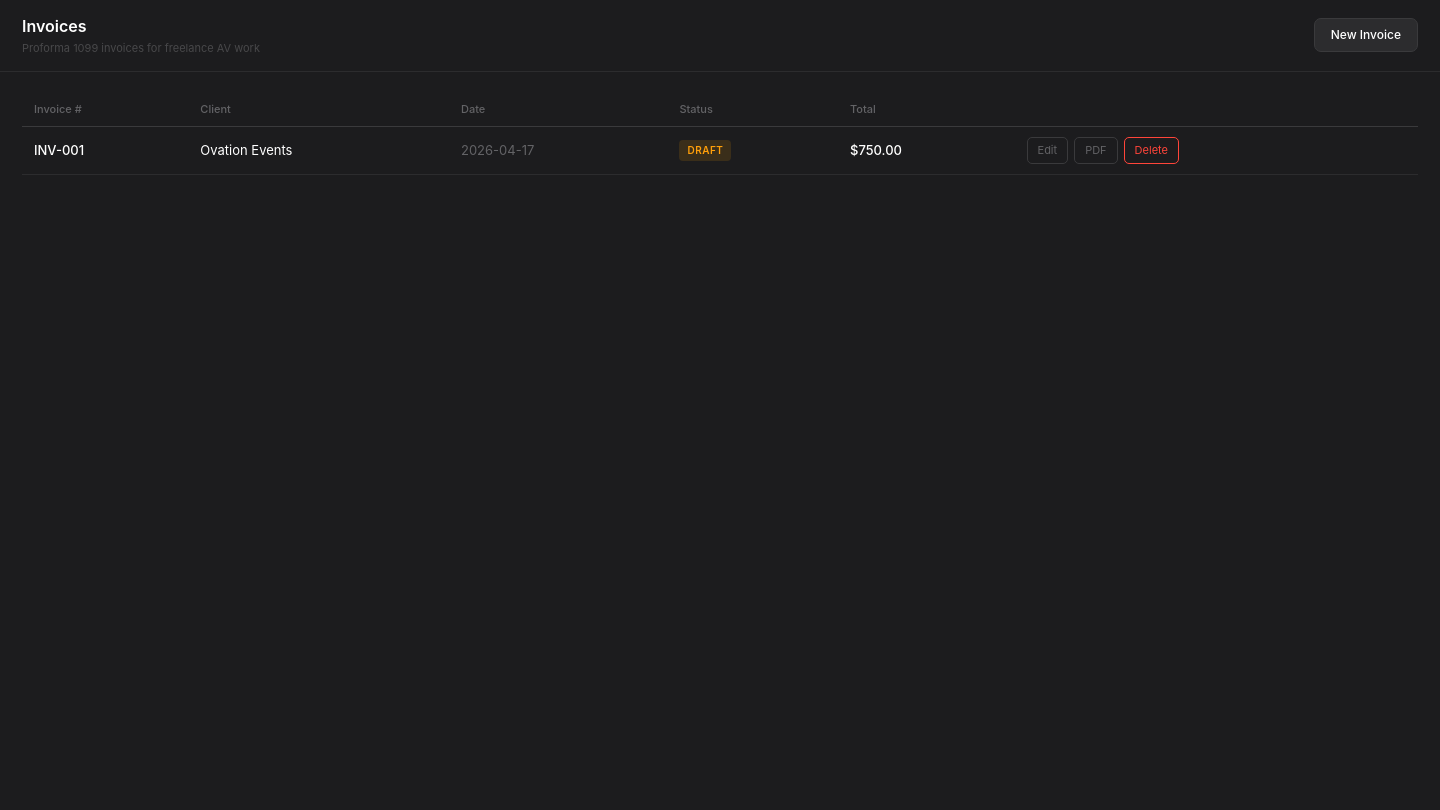
Test: pre-fills form when Edit clicked
The width and height of the screenshot is (1440, 810).
Click the button "Edit" at (1047, 150), box [1026, 137, 1068, 164]
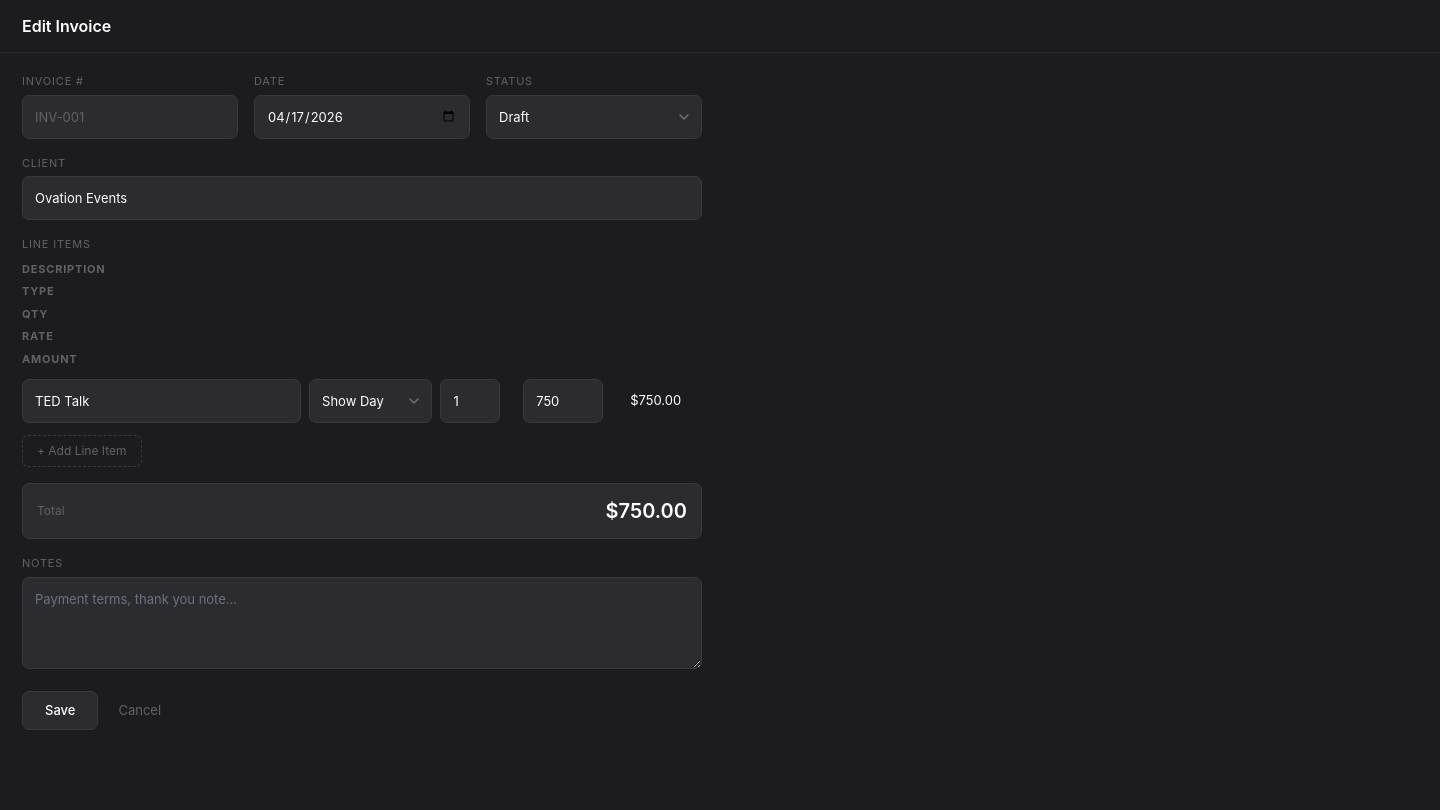
Now the field labelled "Client" holds "Ovation Events", box [22, 176, 702, 220]
